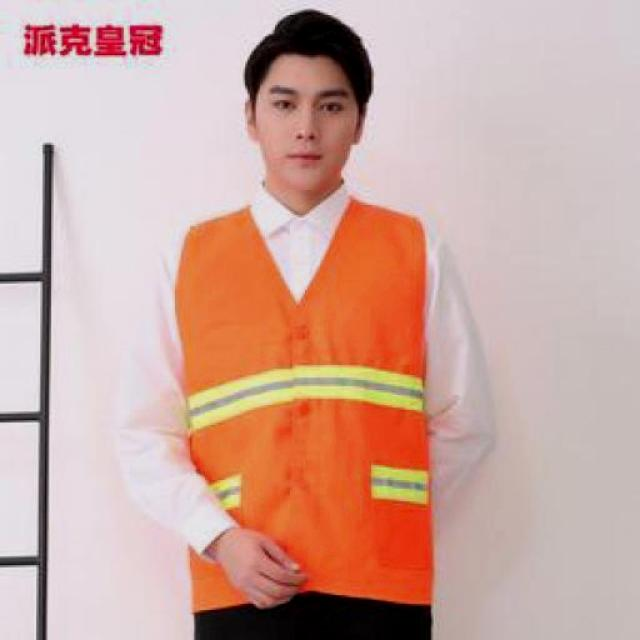face_nomask: (256, 80, 359, 180)
hand_noglove: (202, 512, 304, 616)
head_nohelmet: (238, 9, 374, 75)
person: (110, 6, 500, 640)
vest: (175, 204, 435, 617)
